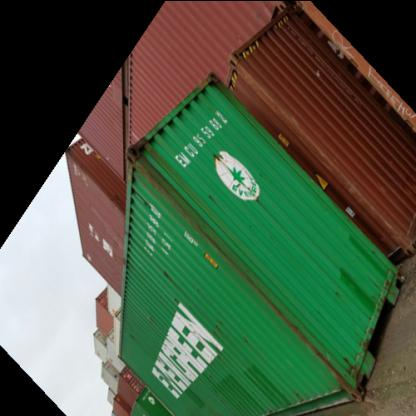Damage: (262, 305, 354, 395), (188, 224, 269, 314), (122, 148, 197, 231)
